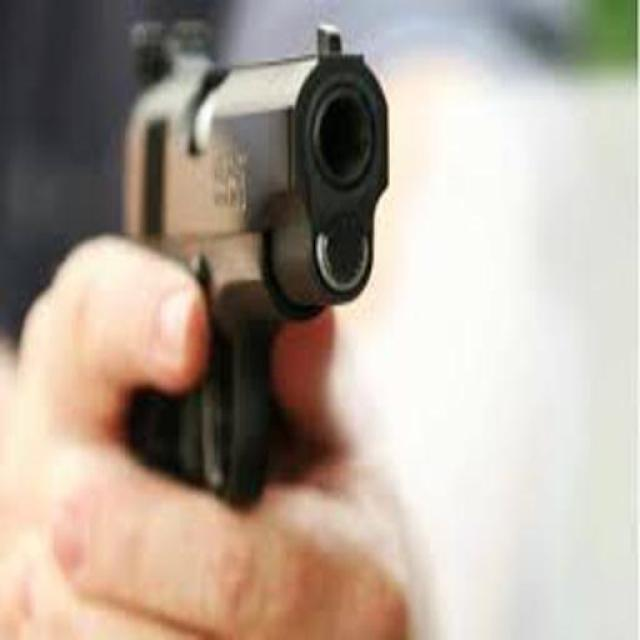pistol: (116, 10, 391, 522)
